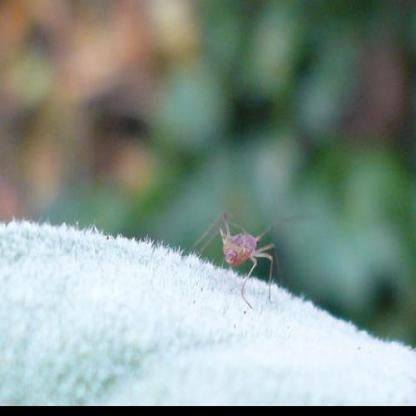aphid: (190, 196, 288, 306)
